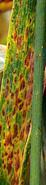Wheat: (5, 66, 32, 172)
